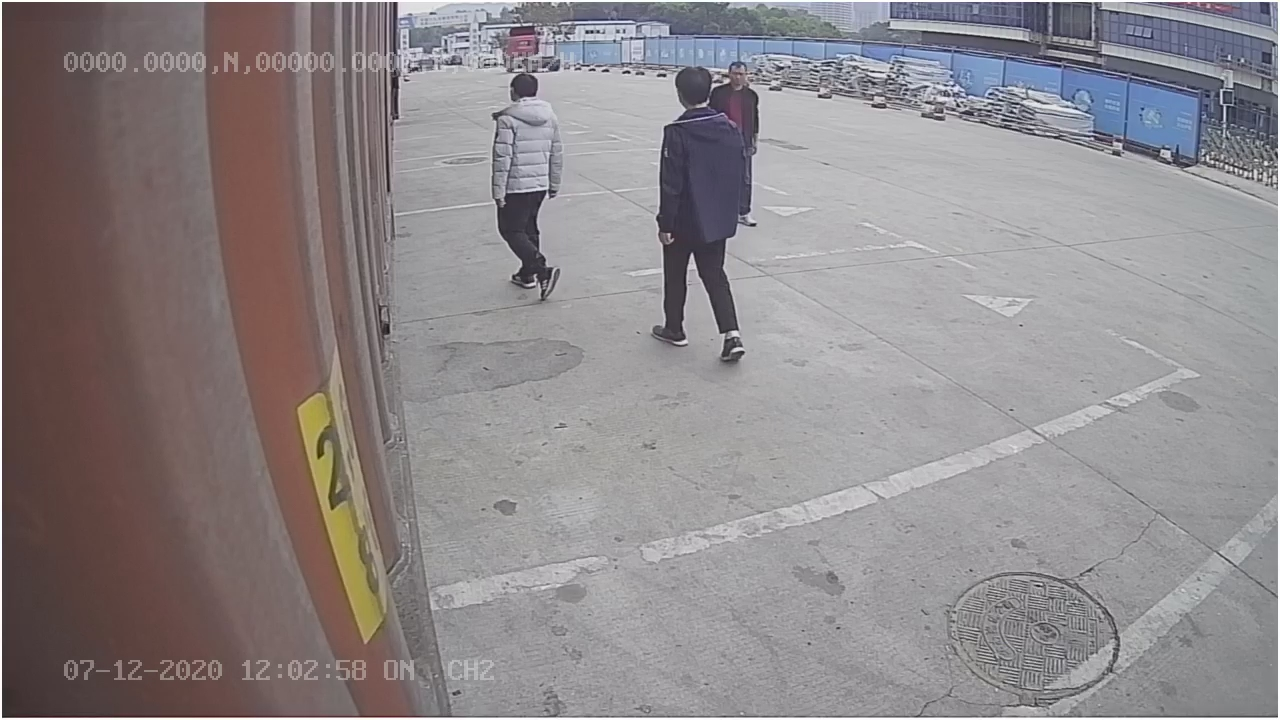person: (486, 72, 572, 301)
